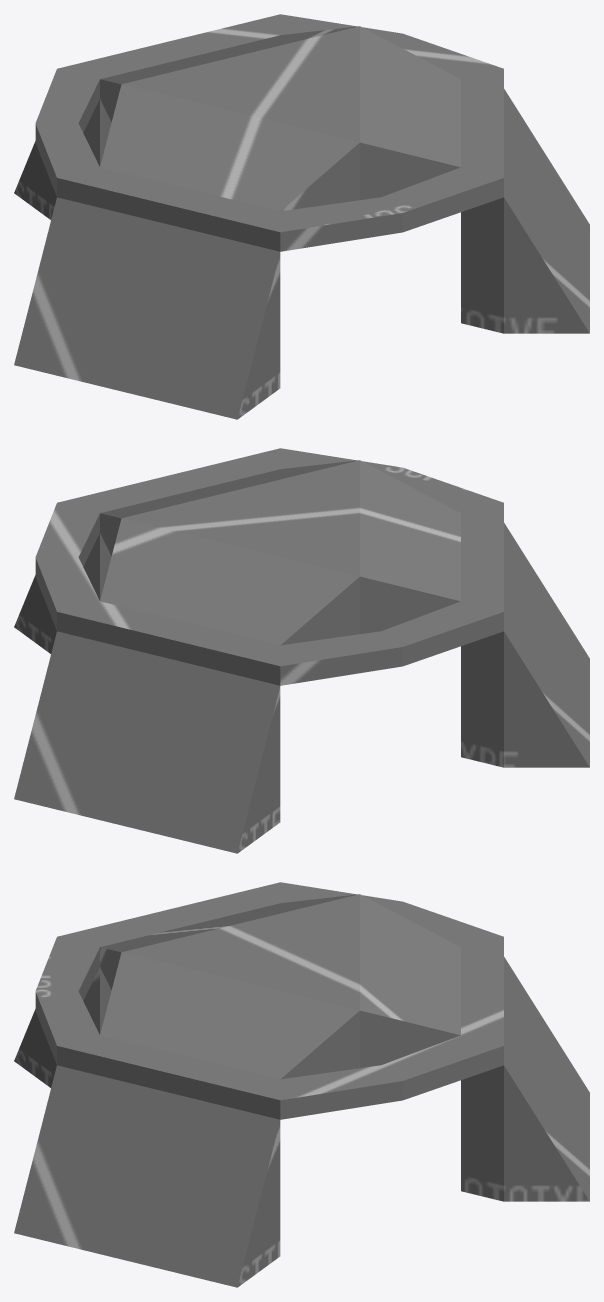
The model's file is XOLOTL-79-Top.obj.
3 views of the same model, one above another, from view 1: azimuth 30°, elevation 25°; view 2: azimuth 150°, elevation 25°; view 3: azimuth 270°, elevation 25° (orthographic).
Parts seen in each view (by area): view 1: XOLOTL-79-Top; view 2: XOLOTL-79-Top; view 3: XOLOTL-79-Top.
Part boxes in pixels (<box>): XOLOTL-79-Top: <box>14,14,589,419</box>; XOLOTL-79-Top: <box>14,448,589,853</box>; XOLOTL-79-Top: <box>14,882,589,1287</box>.
Bounding box in the file's own units: 0.7732 × 0.25 × 0.6696.
